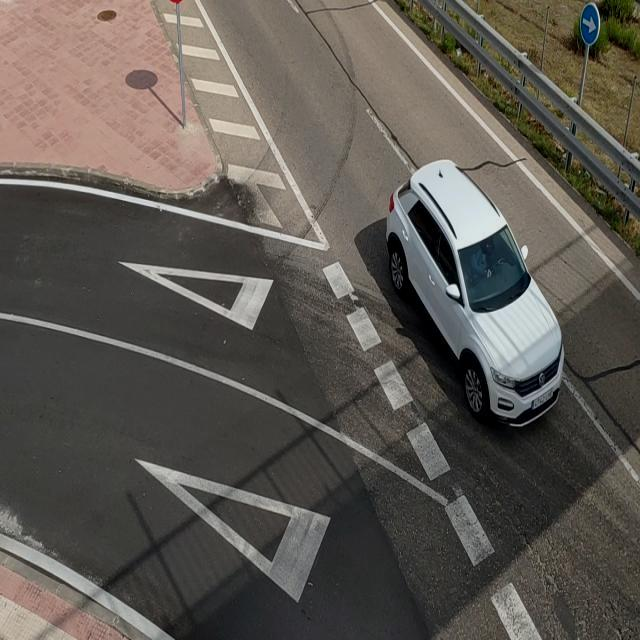Car: (370, 157, 578, 439)
